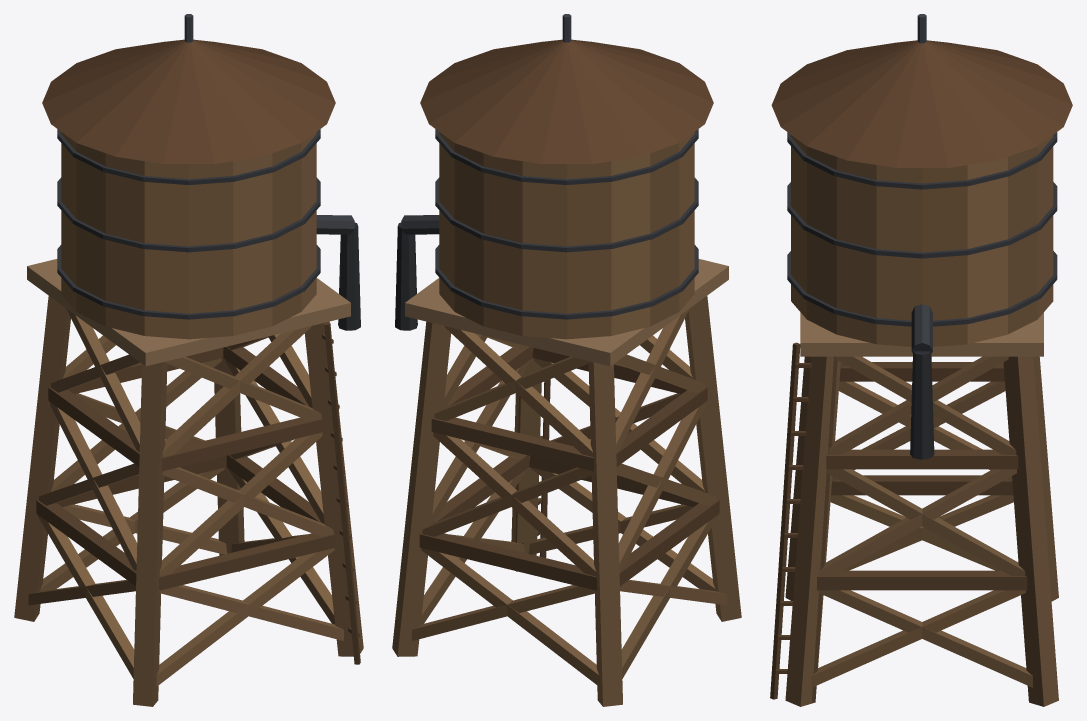
The model's file is water-tower.glb.
3 views of the same model, side by side, from view 1: azimuth 30°, elevation 25°; view 2: azimuth 150°, elevation 25°; view 3: azimuth 270°, elevation 25° (orthographic). The views are drawn at different scales.
Visible parts, largest first — view 1: water-tower; view 2: water-tower; view 3: water-tower.
Boxes of the visible parts, <box> form: water-tower: <box>14,14,363,706</box>; water-tower: <box>392,14,741,706</box>; water-tower: <box>770,14,1072,706</box>.
Size of the model in its own units: 4.61 by 9.21 by 3.98.
